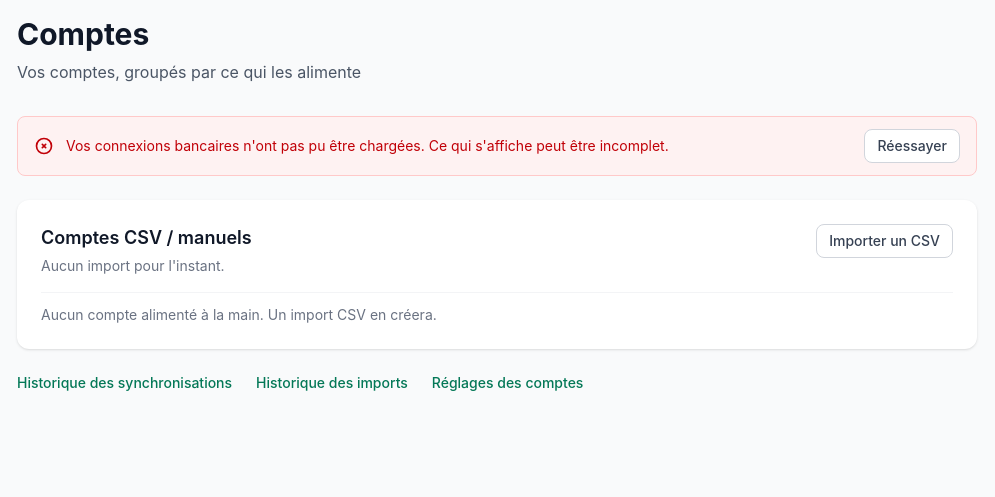
it: AccountsPage › never reads a failed load as "no bank connected", and retries
Expected: the message with test id "accounts-load-error" shows "Vos connexions bancaires n'ont pas pu être chargées.", [66,137,425,154]
Step 1. Click the button with test id "accounts-retry" → [912, 146], box [864,129,960,163]
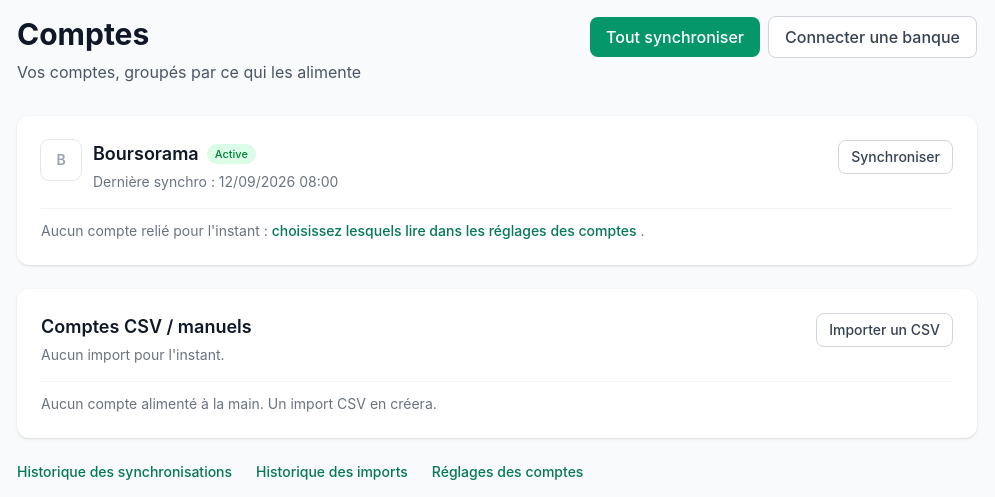
Expected: the element with test id "connection-c1" is shown, [17,116,977,265]
